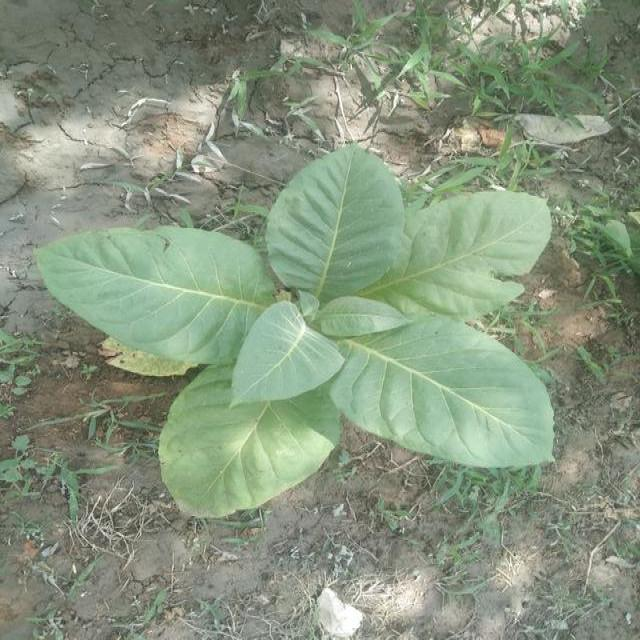crop: (35, 147, 558, 521)
